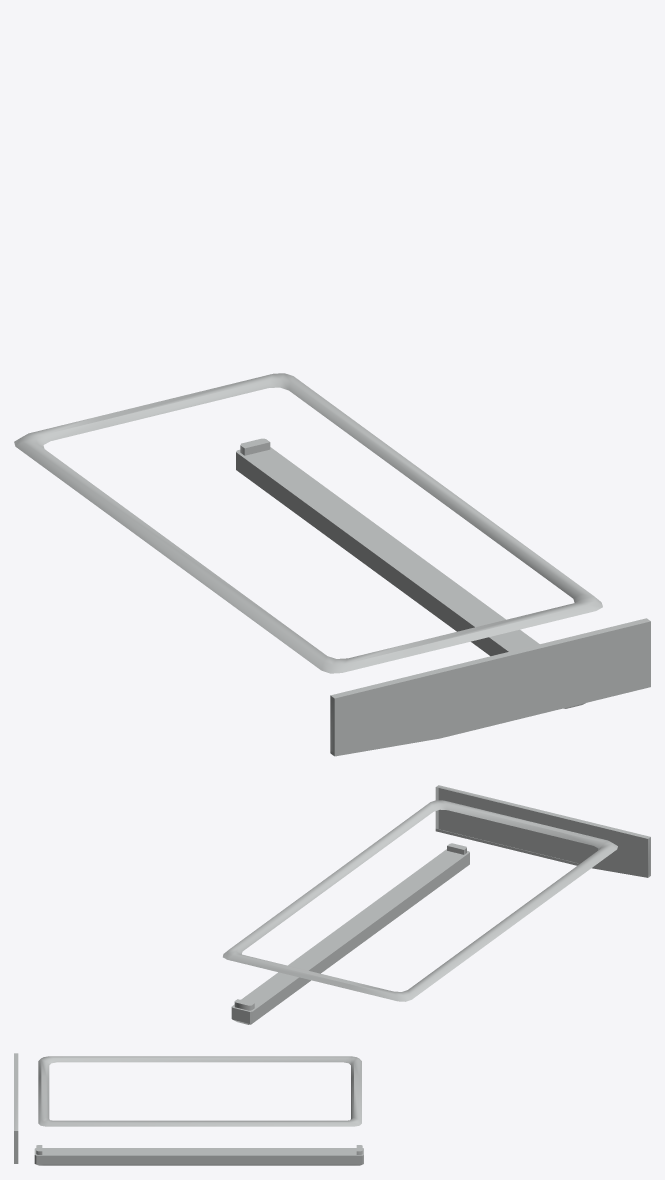
The model's file is MeshFridgeMaindoor2C1_1_GeomSubset_1.obj.
3 renders of one model, top to bottom at view 1: azimuth 30°, elevation 25°; view 2: azimuth 150°, elevation 25°; view 3: azimuth 270°, elevation 25°, orthographic. The views are drawn at different scales.
Parts seen in each view (by area): view 1: MeshFridgeMaindoor2C1_1_GeomSubset_1; view 2: MeshFridgeMaindoor2C1_1_GeomSubset_1; view 3: MeshFridgeMaindoor2C1_1_GeomSubset_1.
Part boxes in pixels (x1,y1,x2,y2): MeshFridgeMaindoor2C1_1_GeomSubset_1: [14, 373, 650, 756]; MeshFridgeMaindoor2C1_1_GeomSubset_1: [223, 785, 650, 1024]; MeshFridgeMaindoor2C1_1_GeomSubset_1: [14, 1053, 363, 1165].
Size of the model in its own units: 0.5734 by 0.4049 by 1.98.
